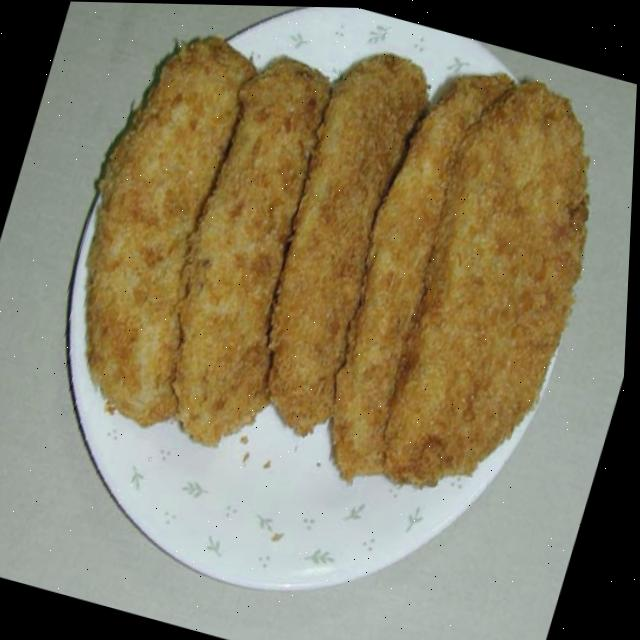炸货点心: (25, 1, 640, 547)
